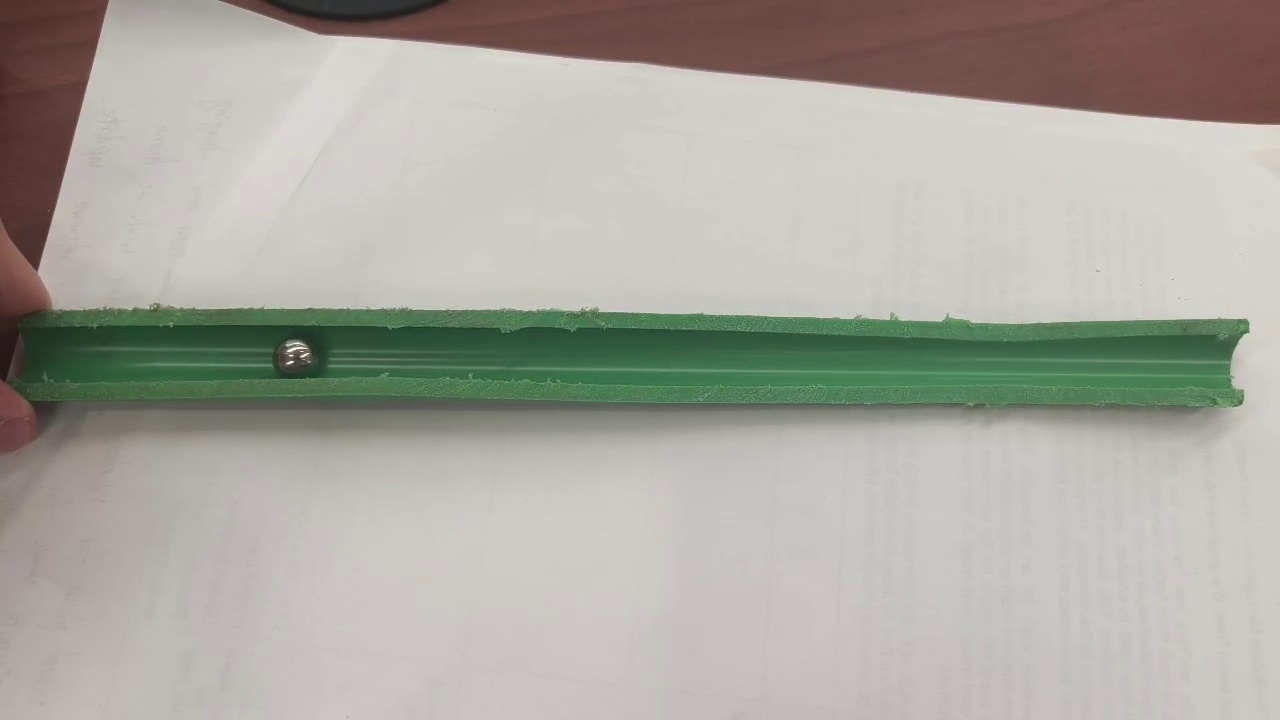ball: (276, 340, 314, 373)
